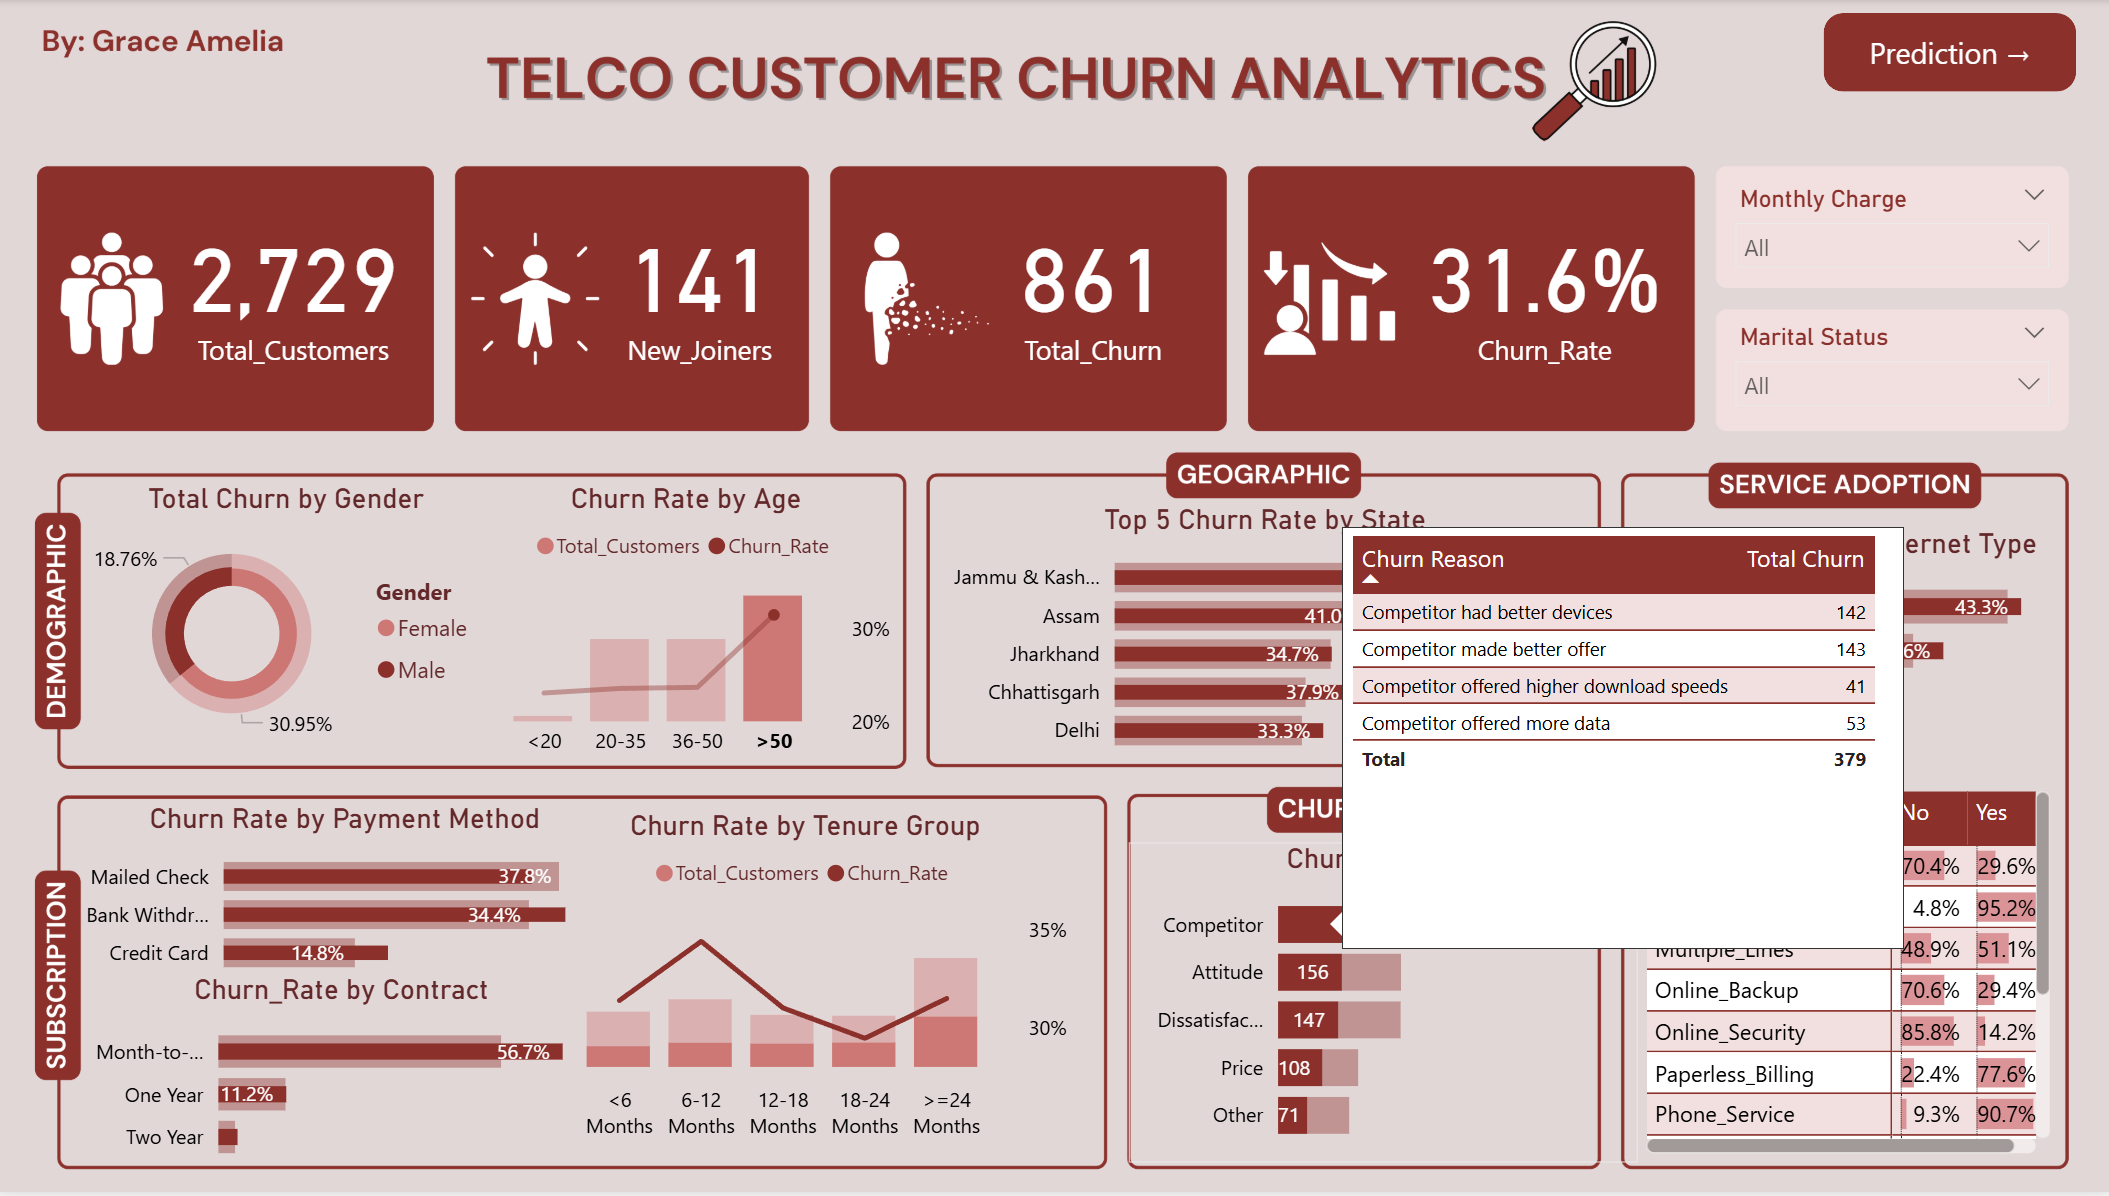

What the dashboard file says about the page in this screenshot:
{"tool":"powerbi","page":{"name":"Summary","canvas":[1280,720],"ordinal":0},"visuals":[{"type":"card","fields":{"Values":["Table_Measures.Total_Customers"]},"box":[109.1,116.5,144.7,114],"z":0},{"type":"card","fields":{"Values":["Table_Measures.New_Joiners"]},"box":[364.1,116.5,123.8,114],"z":1000},{"type":"card","fields":{"Values":["Table_Measures.Total_Churn"]},"box":[591,116.5,144.7,114],"z":2000},{"type":"card","fields":{"Values":["Table_Measures.Churn_Rate"]},"box":[852.1,116.5,168,114],"z":3000},{"type":"donutChart","title":"Total Churn by Gender","fields":{"Category":["production_Churn.Gender"],"Y":["Table_Measures.Total_Churn"]},"box":[51.6,291.6,250.3,163.9],"z":4000},{"type":"lineStackedColumnComboChart","title":"Churn Rate by Age","fields":{"Category":["Age.Age_Group"],"Y":["Table_Measures.Total_Customers"],"Y2":["Table_Measures.Churn_Rate"]},"box":[290,291.4,255.7,174.3],"z":5000},{"type":"clusteredBarChart","title":"Churn Rate by Payment Method","fields":{"Y":["Table_Measures.Churn_Rate"],"Category":["production_Churn.Payment_Method"]},"box":[38.6,484.4,346.5,114.8],"z":6000},{"type":"clusteredBarChart","fields":{"Category":["production_Churn.Contract"],"Y":["Table_Measures.Churn_Rate"]},"box":[36.4,588.1,348.7,124.7],"z":7000},{"type":"lineStackedColumnComboChart","title":"Churn Rate by Tenure Group","fields":{"Category":["Tenure.Tenure_Group"],"Y":["Table_Measures.Total_Customers"],"Y2":["Table_Measures.Churn_Rate"]},"box":[327.7,488.8,325.5,206.3],"z":8000},{"type":"clusteredBarChart","title":"Top 5 Churn Rate by State","fields":{"Category":["production_Churn.State"],"Y":["Table_Measures.Churn_Rate"]},"box":[560.6,304.6,413.8,161.1],"z":9000},{"type":"clusteredBarChart","title":"Churn Category","fields":{"Category":["production_Churn.Churn_Category"],"Y":["Table_Measures.Total_Churn"]},"box":[685.2,508.7,307.9,193.1],"z":10000},{"type":"clusteredBarChart","title":"Churn Rate by Internet Type","fields":{"Category":["production_Churn.Internet_Type"],"Y":["Table_Measures.Churn_Rate"]},"box":[985.4,318.9,286.9,154.5],"z":11000},{"type":"pivotTable","fields":{"Rows":["production_Services.Services"],"Columns":["production_Services.Status"],"Values":["Sum(production_Services.Churn_Status)"]},"box":[993.1,473.4,253.8,228.4],"z":12000},{"type":"slicer","fields":{"Values":["Charge.Monthly_Charge_Status"]},"box":[1041.7,107,209.7,62.9],"z":13000},{"type":"slicer","fields":{"Values":["Married.Marital_Status"]},"box":[1041.7,189.8,209.7,68.4],"z":14000},{"type":"shape","box":[1105,8.8,152.5,47.5],"z":14001}]}

Visuals, with their boxes in screenshot pixels (x1, y1, x2, y2), scaled from the page's 1280x720 canvas onto the 2109x1196 screenshot:
card - Table_Measures.Total_Customers: x1=180, y1=194, x2=418, y2=383
card - Table_Measures.New_Joiners: x1=600, y1=194, x2=804, y2=383
card - Table_Measures.Total_Churn: x1=974, y1=194, x2=1212, y2=383
card - Table_Measures.Churn_Rate: x1=1404, y1=194, x2=1681, y2=383
"Total Churn by Gender" donutChart: x1=85, y1=484, x2=497, y2=757
"Churn Rate by Age" lineStackedColumnComboChart: x1=478, y1=484, x2=899, y2=774
"Churn Rate by Payment Method" clusteredBarChart: x1=64, y1=805, x2=635, y2=995
clusteredBarChart - production_Churn.Contract x Table_Measures.Churn_Rate: x1=60, y1=977, x2=635, y2=1184
"Churn Rate by Tenure Group" lineStackedColumnComboChart: x1=540, y1=812, x2=1076, y2=1155
"Top 5 Churn Rate by State" clusteredBarChart: x1=924, y1=506, x2=1605, y2=774
"Churn Category" clusteredBarChart: x1=1129, y1=845, x2=1636, y2=1166
"Churn Rate by Internet Type" clusteredBarChart: x1=1624, y1=530, x2=2096, y2=786
pivotTable - production_Services.Services x production_Services.Status: x1=1636, y1=786, x2=2054, y2=1166
slicer - Charge.Monthly_Charge_Status: x1=1716, y1=178, x2=2062, y2=282
slicer - Married.Marital_Status: x1=1716, y1=315, x2=2062, y2=429
shape: x1=1821, y1=15, x2=2072, y2=94
